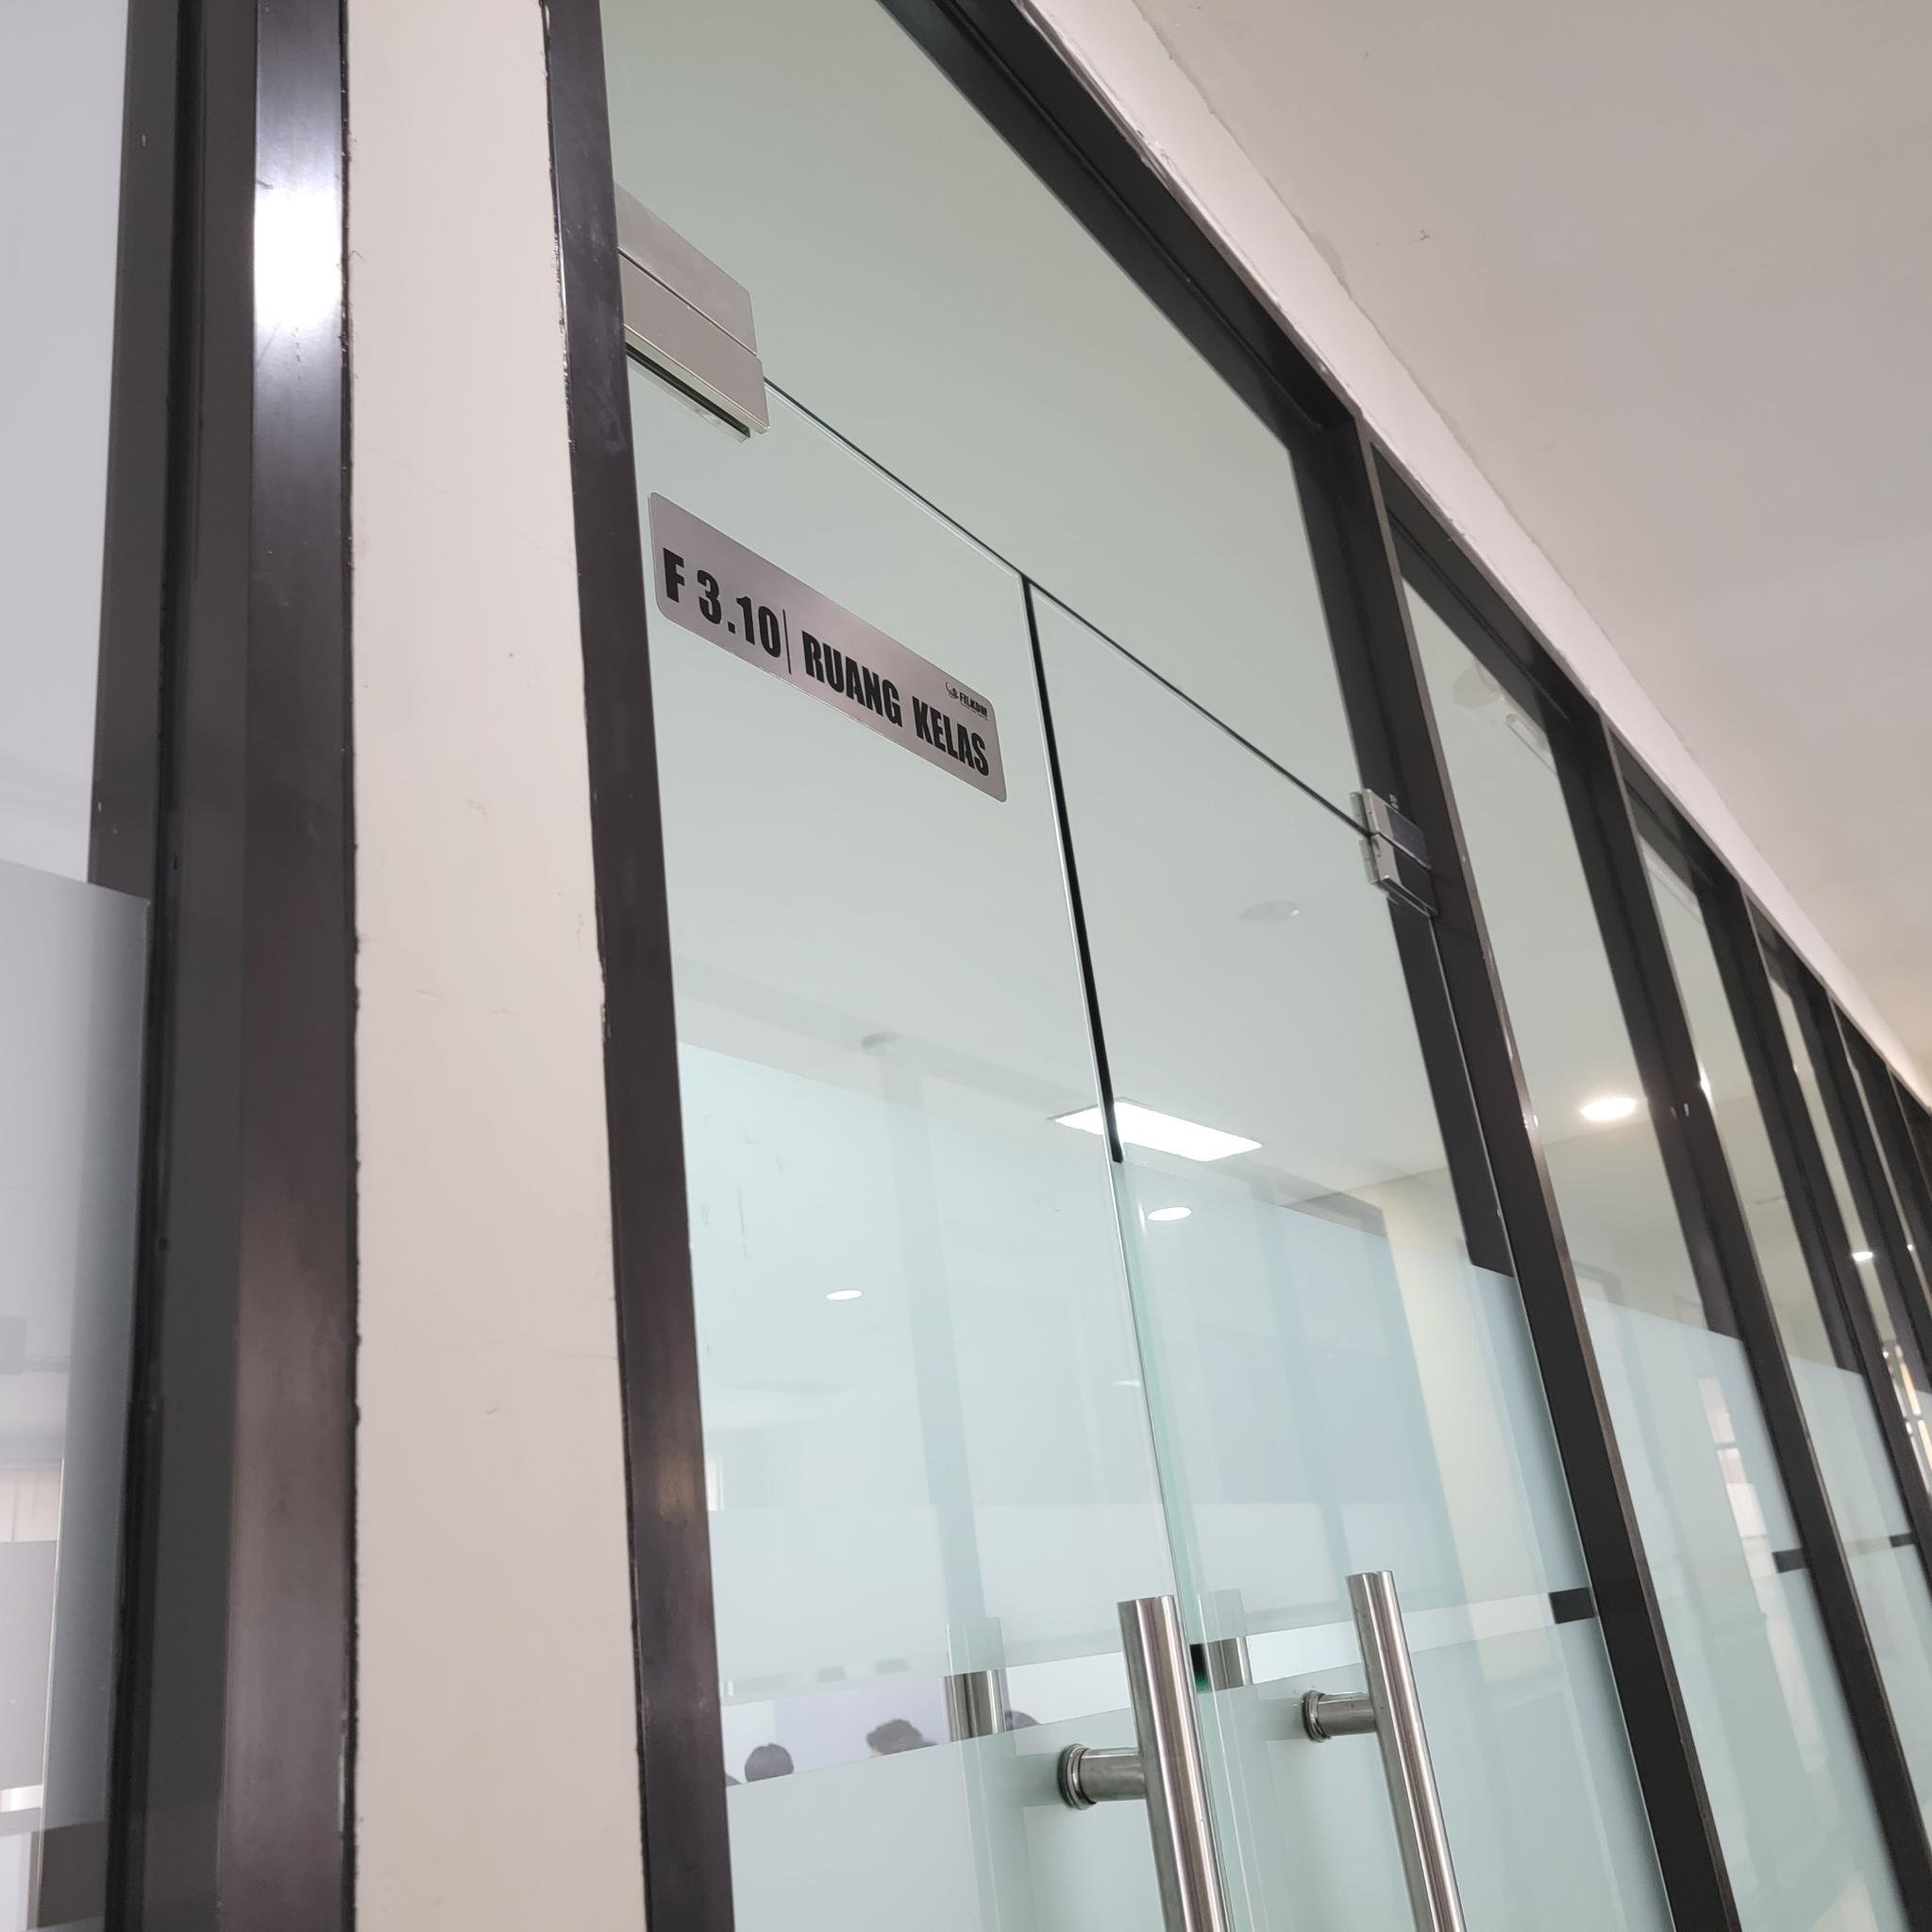plate: (648, 488, 1012, 810)
